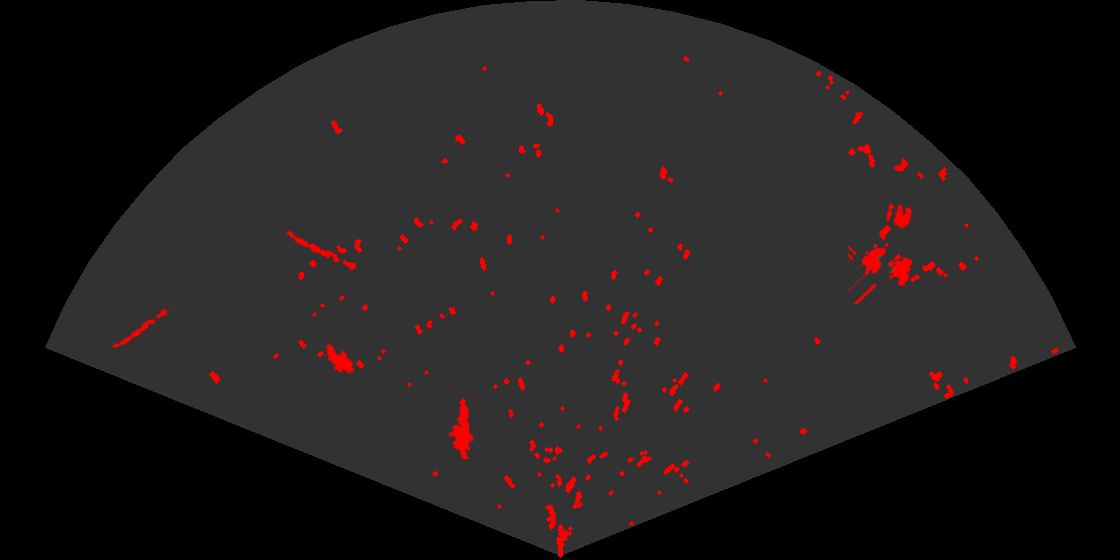AUV: (325, 342, 356, 376)
ball: (884, 202, 914, 229)
cage: (848, 241, 914, 304)
chain: (285, 229, 360, 272), (109, 303, 175, 351)
frogman: (446, 396, 475, 459)
